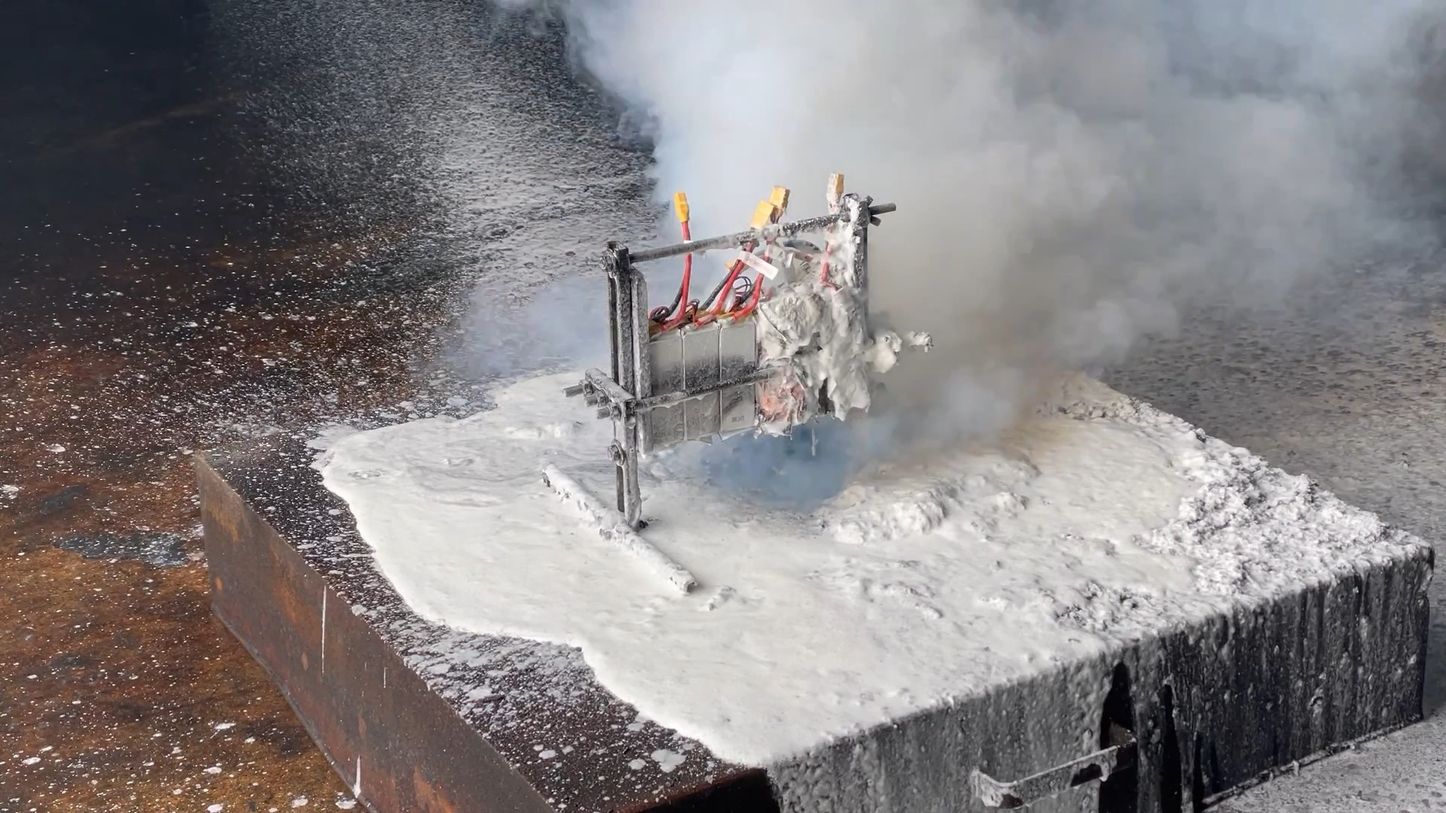smoke: (525, 0, 1446, 492)
